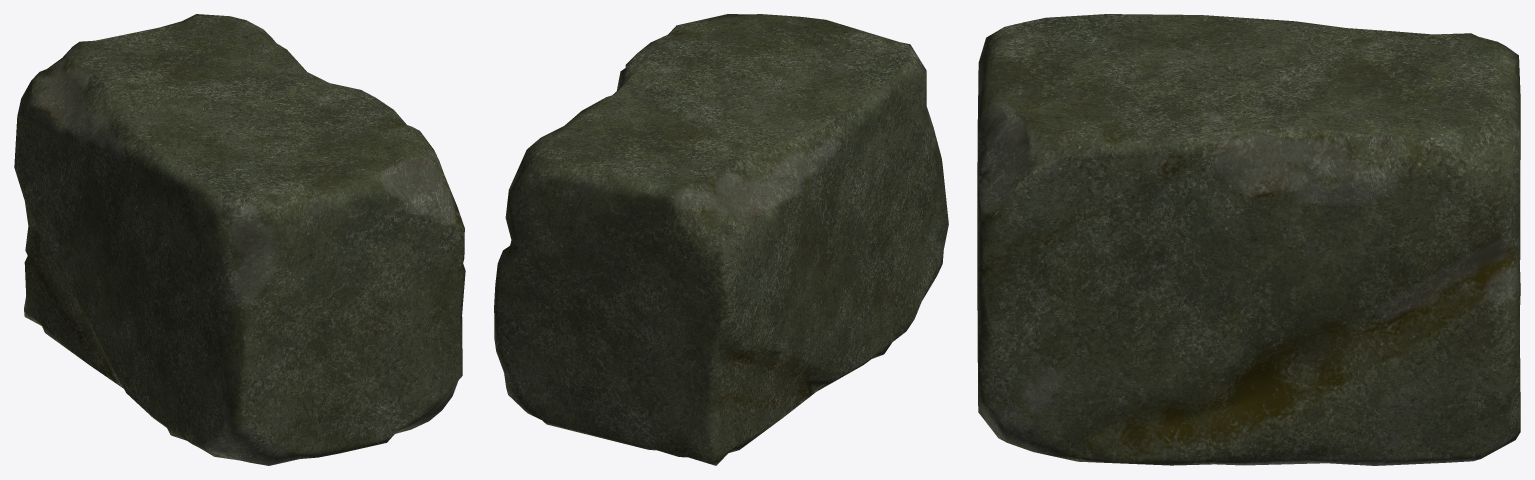
File: block.glb
3 renders of one model, left to right at view 1: azimuth 30°, elevation 25°; view 2: azimuth 150°, elevation 25°; view 3: azimuth 270°, elevation 25°, orthographic. The views are drawn at different scales.
Visible parts, largest first — view 1: Brick_LP; view 2: Brick_LP; view 3: Brick_LP.
Boxes of the visible parts, bbox=[...] form: Brick_LP: bbox=[14, 14, 465, 465]; Brick_LP: bbox=[494, 14, 948, 465]; Brick_LP: bbox=[977, 14, 1520, 465].
Bounding box in the file's own units: 0.6224 × 0.6512 × 1.
1 material, 1 textured.
